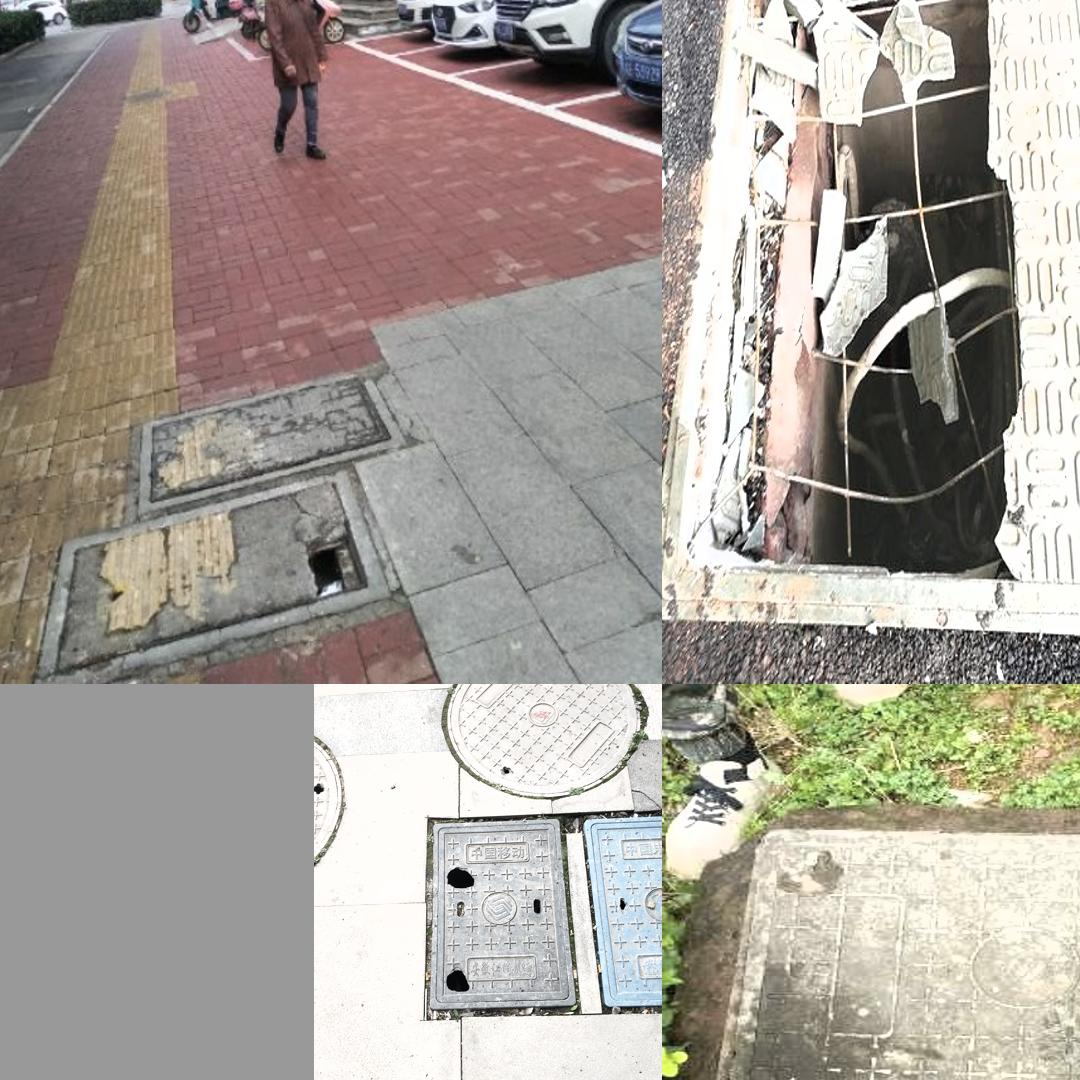broke: (673, 0, 1080, 656), (722, 838, 1080, 1080), (26, 467, 396, 684), (429, 816, 577, 1005), (446, 684, 642, 797), (582, 815, 662, 1006), (314, 742, 340, 870)
good: (137, 367, 404, 512)
